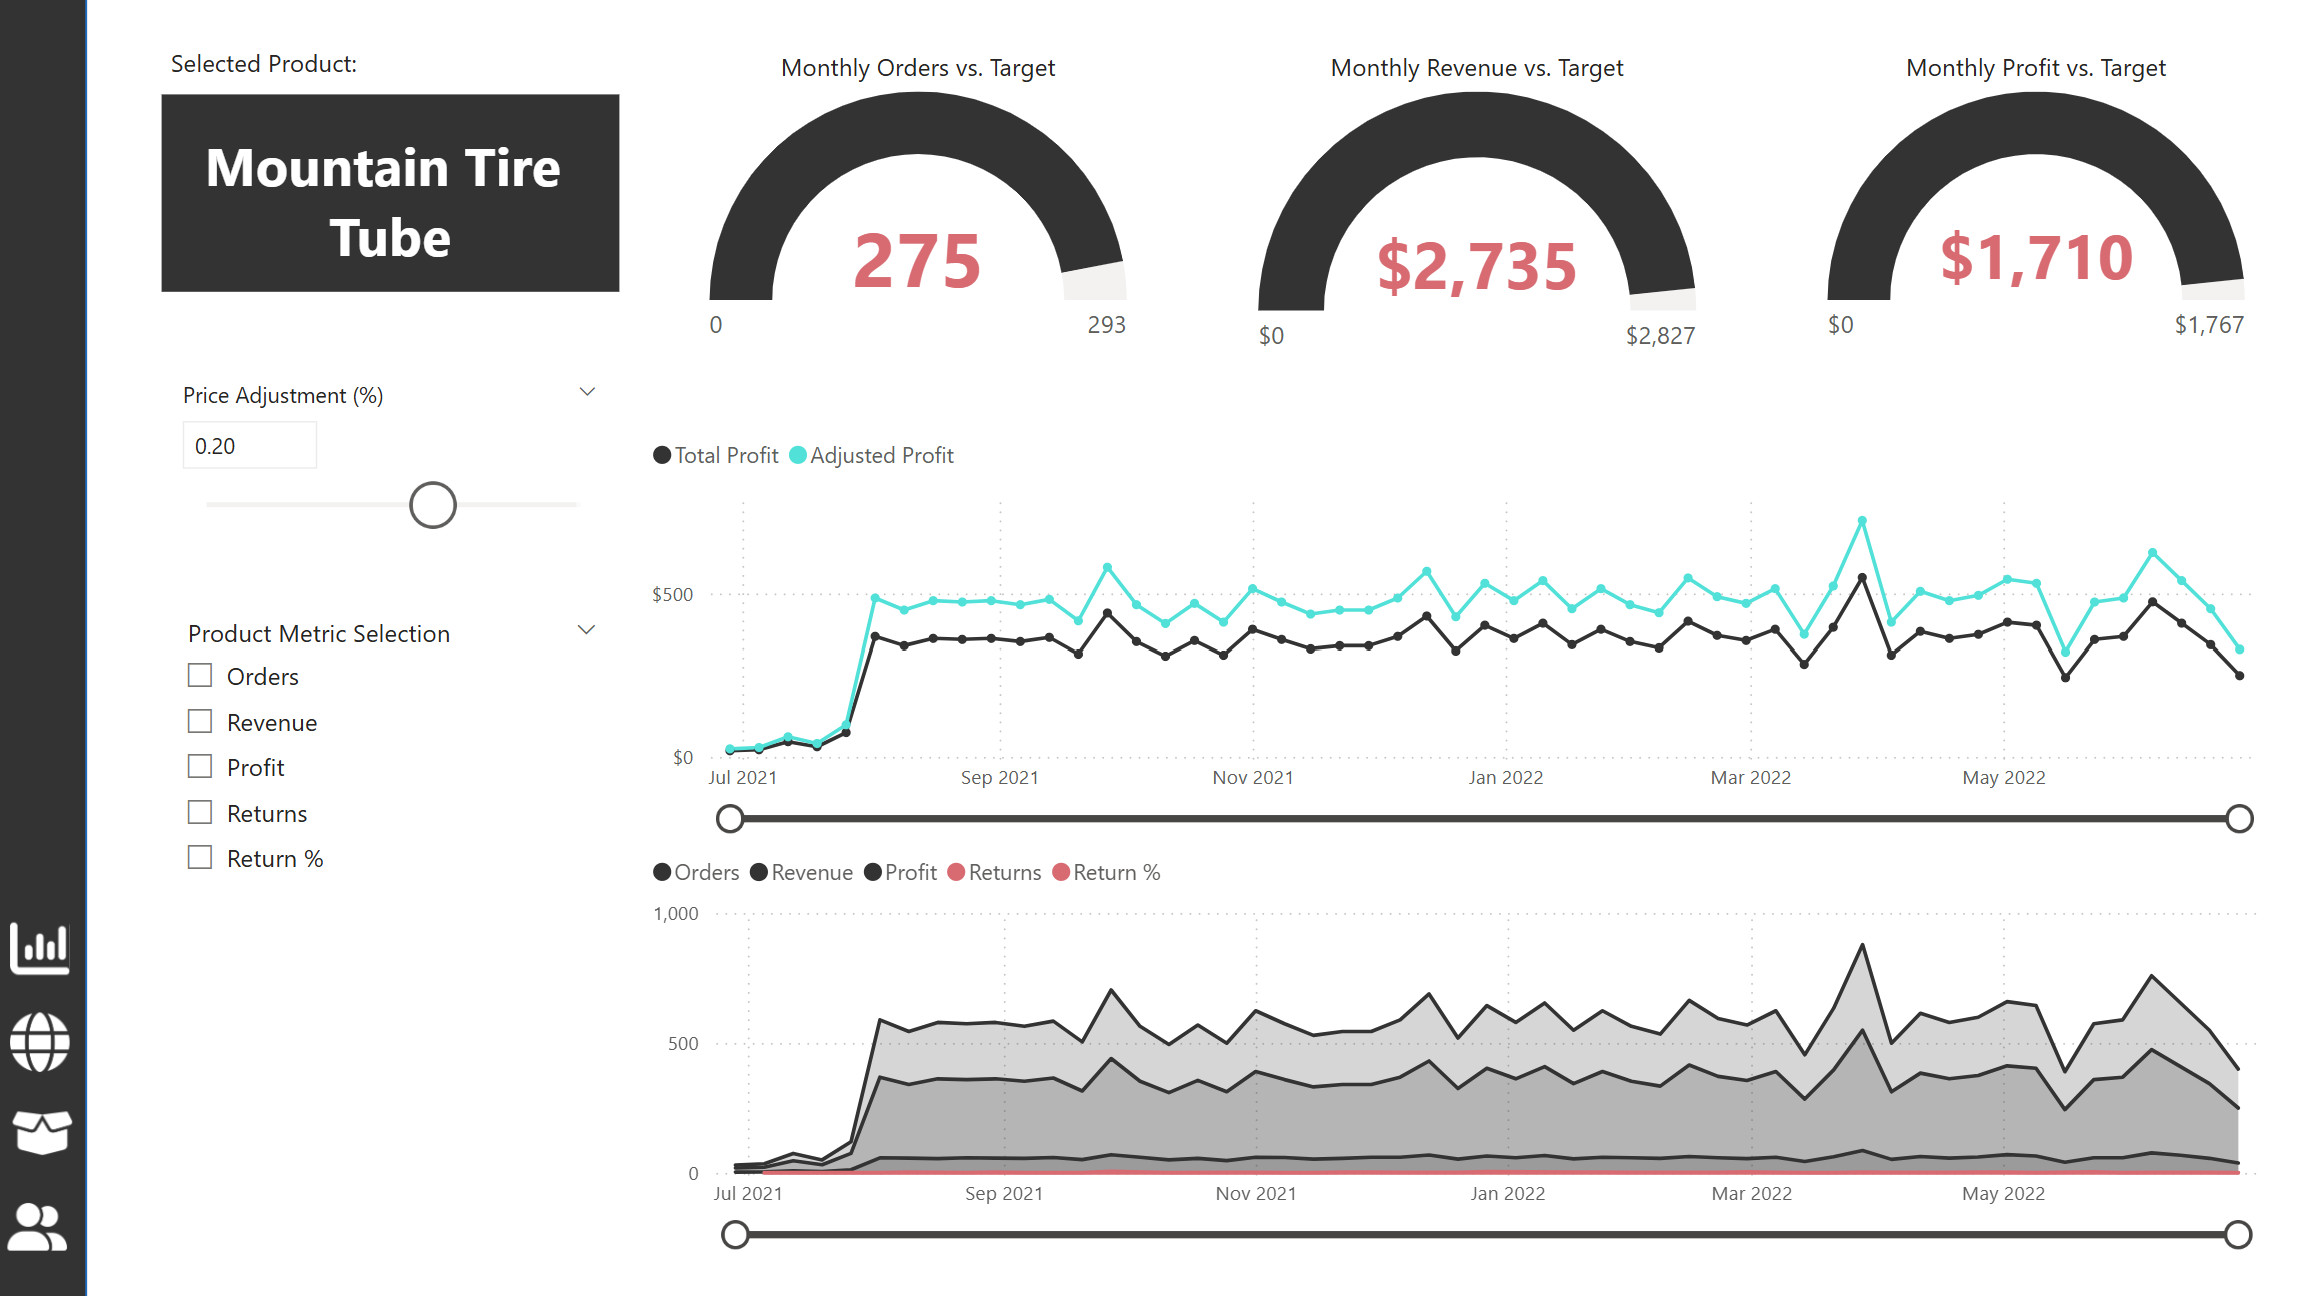

Layout of this report page (visuals, bound fields, positions):
{"tool":"powerbi","page":{"name":"Product Detail","canvas":[1280,720],"ordinal":2},"visuals":[{"type":"shape","box":[0,0,53.3,720],"z":0},{"type":"gauge","title":"Monthly Orders vs. Target","fields":{"Y":["Measure Table.Total Orders"],"MaxValue":["Measure Table.Order Target"]},"box":[370,31.4,280,170],"z":1000},{"type":"actionButton","box":[6.6,504.8,43.8,40.8],"z":1000,"group":"g1"},{"type":"gauge","title":"Monthly Revenue vs. Target","fields":{"Y":["Measure Table.Total Revenue"],"MaxValue":["Measure Table.Revenue Target"]},"box":[677.1,31.4,280,175.7],"z":2000},{"type":"actionButton","box":[6.6,555.6,43.8,40.8],"z":2000,"group":"g1"},{"type":"gauge","title":"Monthly Profit  vs. Target","fields":{"MaxValue":["Measure Table.Profit Target"],"Y":["Measure Table.Total Profit"]},"box":[984.3,31.4,280,170],"z":3000},{"type":"actionButton","box":[7.4,606.3,43.8,40.8],"z":3000,"group":"g1"},{"type":"areaChart","title":"Weekly Profit","fields":{"Y":["Measure Table.Total Profit","Measure Table.Adjusted Profit"],"Category":["Calendar Lookup.Date Hierarchy.Start of Year","Calendar Lookup.Date Hierarchy.Start of Month","Calendar Lookup.Date Hierarchy.Start of Week","Calendar Lookup.Date Hierarchy.Date"]},"box":[359.1,233.6,906.4,230],"z":4000},{"type":"actionButton","box":[5.1,657.1,43.8,40.8],"z":4000,"group":"g1"},{"type":"areaChart","title":"Weekly Returns","fields":{"Y":["Measure Table.Total Profit"],"Category":["Calendar Lookup.Date Hierarchy.Start of Year","Calendar Lookup.Date Hierarchy.Start of Month","Calendar Lookup.Date Hierarchy.Start of Week","Calendar Lookup.Date Hierarchy.Date"]},"box":[358.6,462.9,905.7,230],"z":5000},{"type":"card","fields":{"Values":["Min(Product Lookup.ProductName)"]},"box":[93.9,55.1,251.4,108.6],"z":6000},{"type":"textbox","box":[93.9,23.7,218.2,31.2],"z":7000},{"type":"group","id":"g1","title":"Navigation Buttons","box":[5.1,504.8,46.2,193.1],"z":8000},{"type":"slicer","fields":{"Values":["Price Adjustment (%).Price Adjustment (%)"]},"box":[92.9,207.1,252.9,108.6],"z":9000},{"type":"slicer","fields":{"Values":["Product Metric Selection.Product Metric Selection"]},"box":[96.2,337.5,250,355],"z":10000}]}

Visuals, with their boxes on the page's 1280x720 design canvas (x1, y1, x2, y2). These are canvas units, not pixel positions in the 2310x1296 screenshot, which may show the page scaled, cropped or inside an application window:
shape: BBox(0, 0, 53, 720)
"Monthly Orders vs. Target" gauge: BBox(370, 31, 650, 201)
actionButton: BBox(7, 505, 50, 546)
"Monthly Revenue vs. Target" gauge: BBox(677, 31, 957, 207)
actionButton: BBox(7, 556, 50, 596)
"Monthly Profit  vs. Target" gauge: BBox(984, 31, 1264, 201)
actionButton: BBox(7, 606, 51, 647)
"Weekly Profit" areaChart: BBox(359, 234, 1266, 464)
actionButton: BBox(5, 657, 49, 698)
"Weekly Returns" areaChart: BBox(359, 463, 1264, 693)
card - Min(Product Lookup.ProductName): BBox(94, 55, 345, 164)
textbox: BBox(94, 24, 312, 55)
"Navigation Buttons" group: BBox(5, 505, 51, 698)
slicer - Price Adjustment (%).Price Adjustment (%): BBox(93, 207, 346, 316)
slicer - Product Metric Selection.Product Metric Selection: BBox(96, 338, 346, 692)
